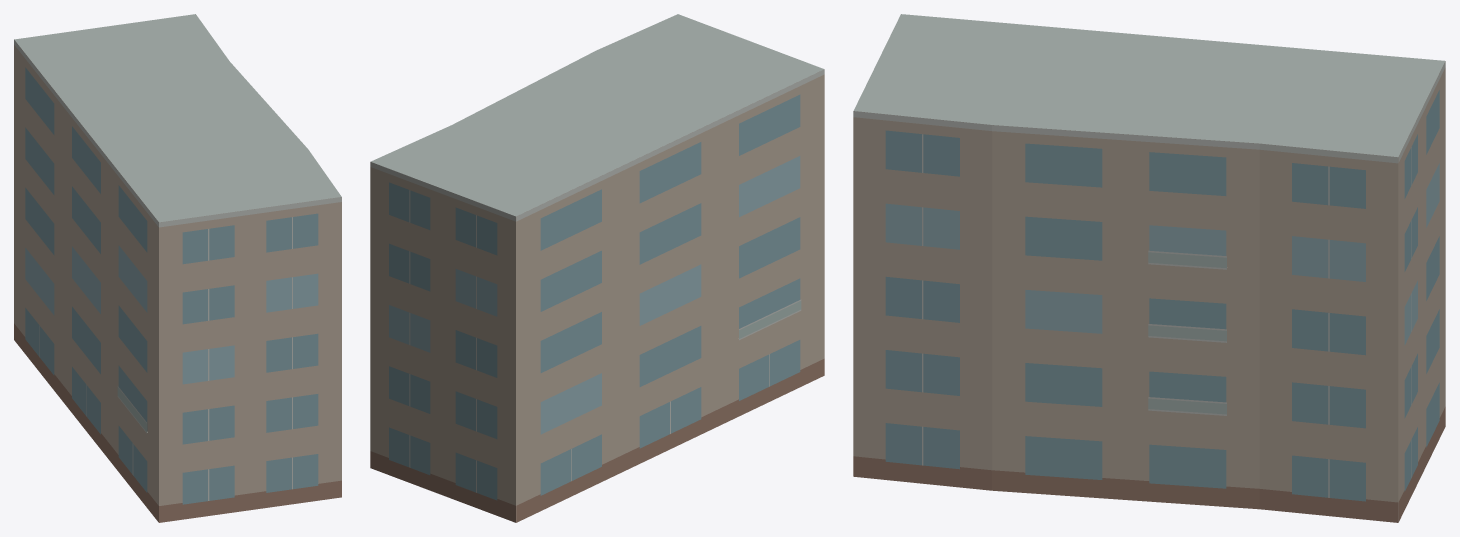
Rendered from survey-upis-32670163.glb.
3 renders of one model, left to right at view 1: azimuth 30°, elevation 25°; view 2: azimuth 150°, elevation 25°; view 3: azimuth 270°, elevation 25°, orthographic. The views are drawn at different scales.
Visible parts, largest first — view 1: survey-upis-32670163.tmp; view 2: survey-upis-32670163.tmp; view 3: survey-upis-32670163.tmp.
Boxes of the visible parts, x1,y1,x2,y2 form: survey-upis-32670163.tmp: (14, 14, 341, 522); survey-upis-32670163.tmp: (370, 14, 824, 522); survey-upis-32670163.tmp: (853, 14, 1445, 522).
Bounding box in the file's own units: 12.1 × 14.4 × 21.14.
